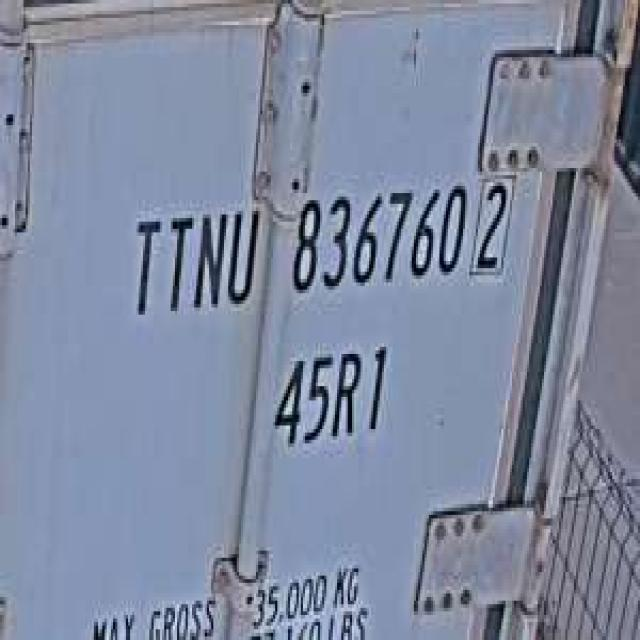dv: (468, 165, 518, 282)
owner: (124, 189, 260, 329)
serial: (284, 172, 469, 300)
size: (268, 333, 394, 454)
